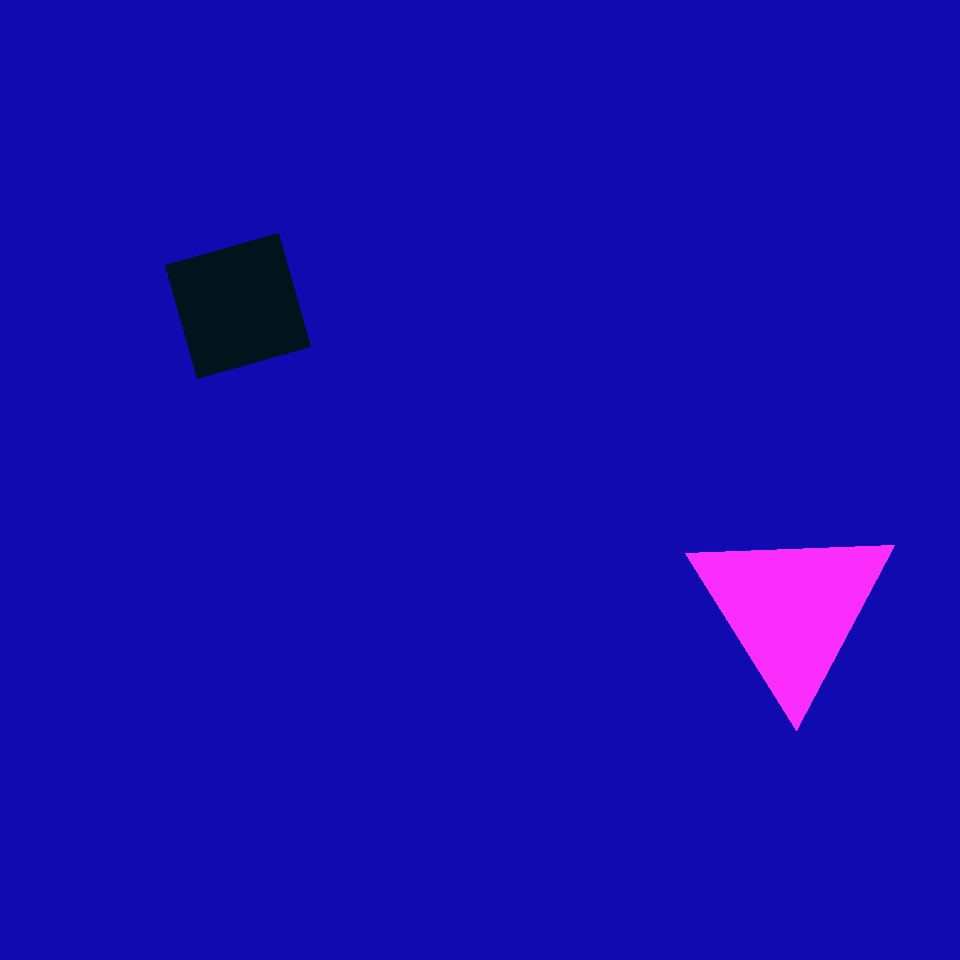circle: (565, 269, 855, 557), (130, 219, 393, 518), (687, 518, 896, 702), (36, 400, 205, 548)
square: (675, 183, 884, 393), (166, 234, 310, 378)
triangle: (372, 187, 588, 404)
